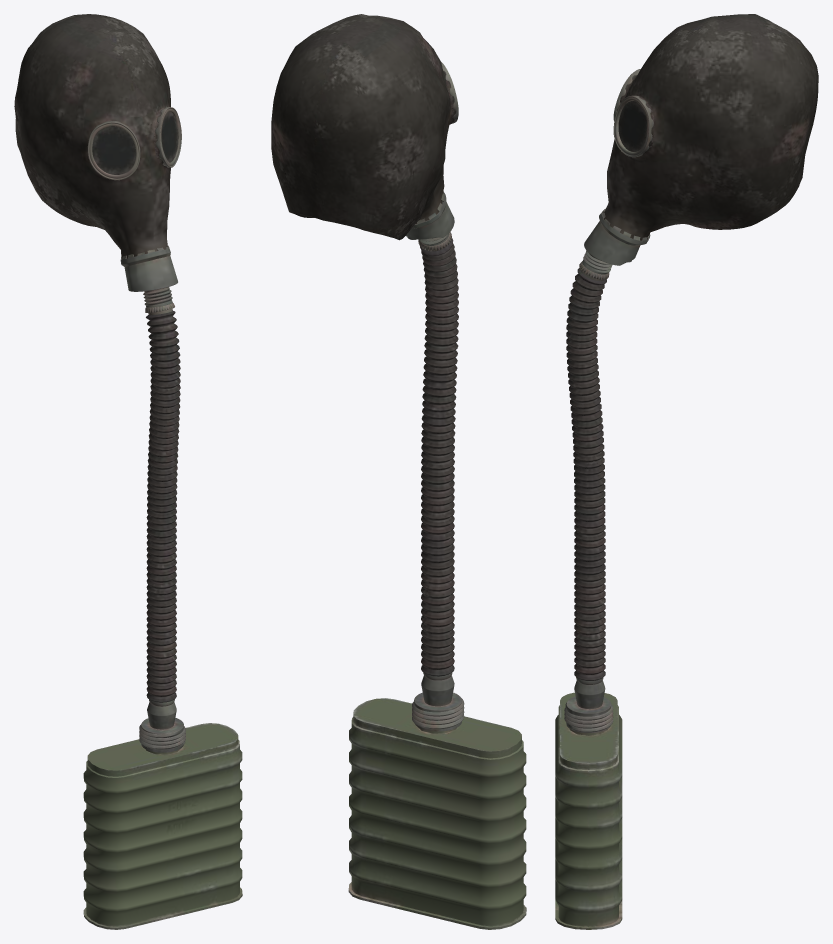
The model's file is decor_gas_mask.glb.
3 renders of one model, left to right at view 1: azimuth 30°, elevation 25°; view 2: azimuth 150°, elevation 25°; view 3: azimuth 270°, elevation 25°, orthographic. The views are drawn at different scales.
Parts seen in each view (by area): view 1: old_gas_mask; view 2: old_gas_mask; view 3: old_gas_mask.
Boxes of the visible parts, x1,y1,x2,y2 form: old_gas_mask: [14, 14, 242, 929]; old_gas_mask: [271, 14, 526, 929]; old_gas_mask: [555, 14, 818, 929].
Size of the model in its own units: 0.2105 by 1.13 by 0.3087.
1 material, 1 textured.
